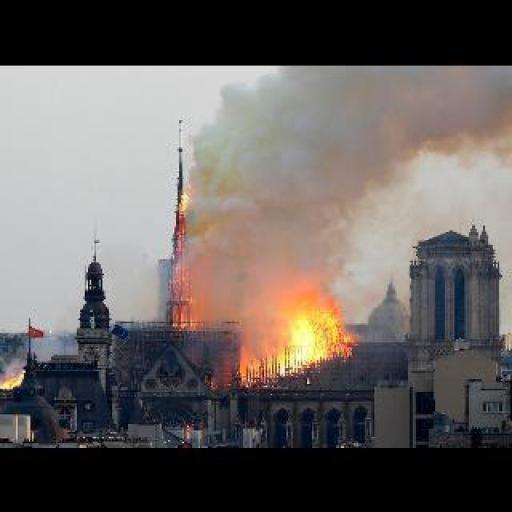smoke: (206, 74, 382, 308), (211, 302, 360, 384), (156, 187, 198, 325)
